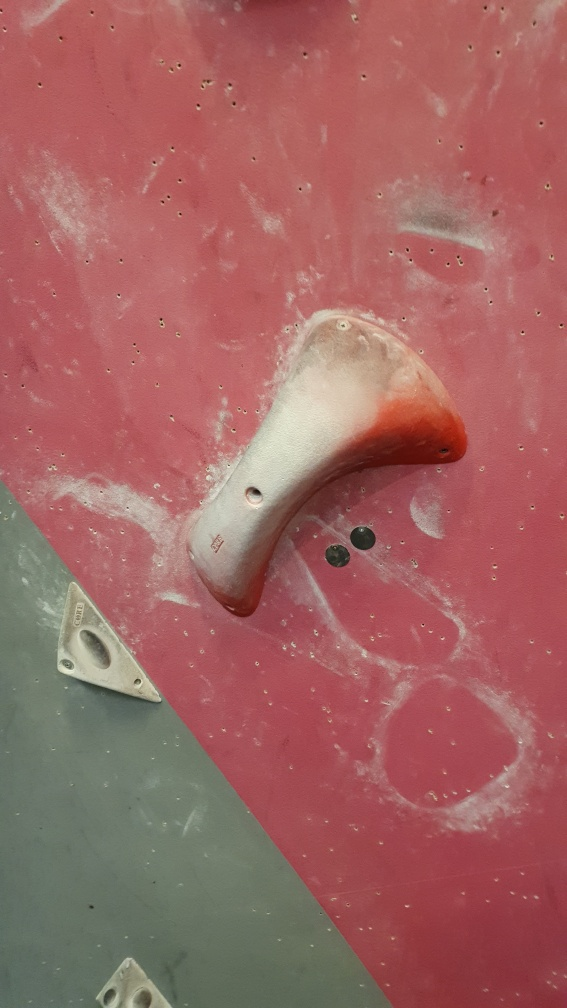Hand Start: (347, 524, 381, 556), (323, 540, 352, 568)
Pinch: (182, 308, 471, 620)
